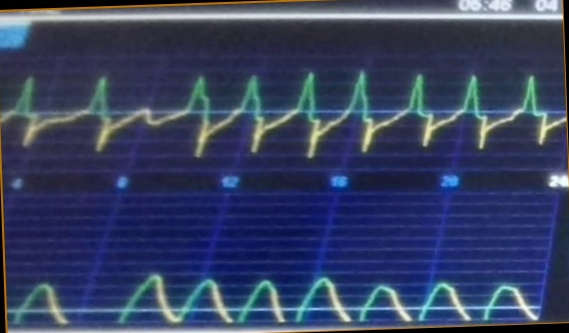Ineffective_effort Flow: (3, 60, 564, 162)
Ineffective_effort Volume: (12, 258, 539, 324)
